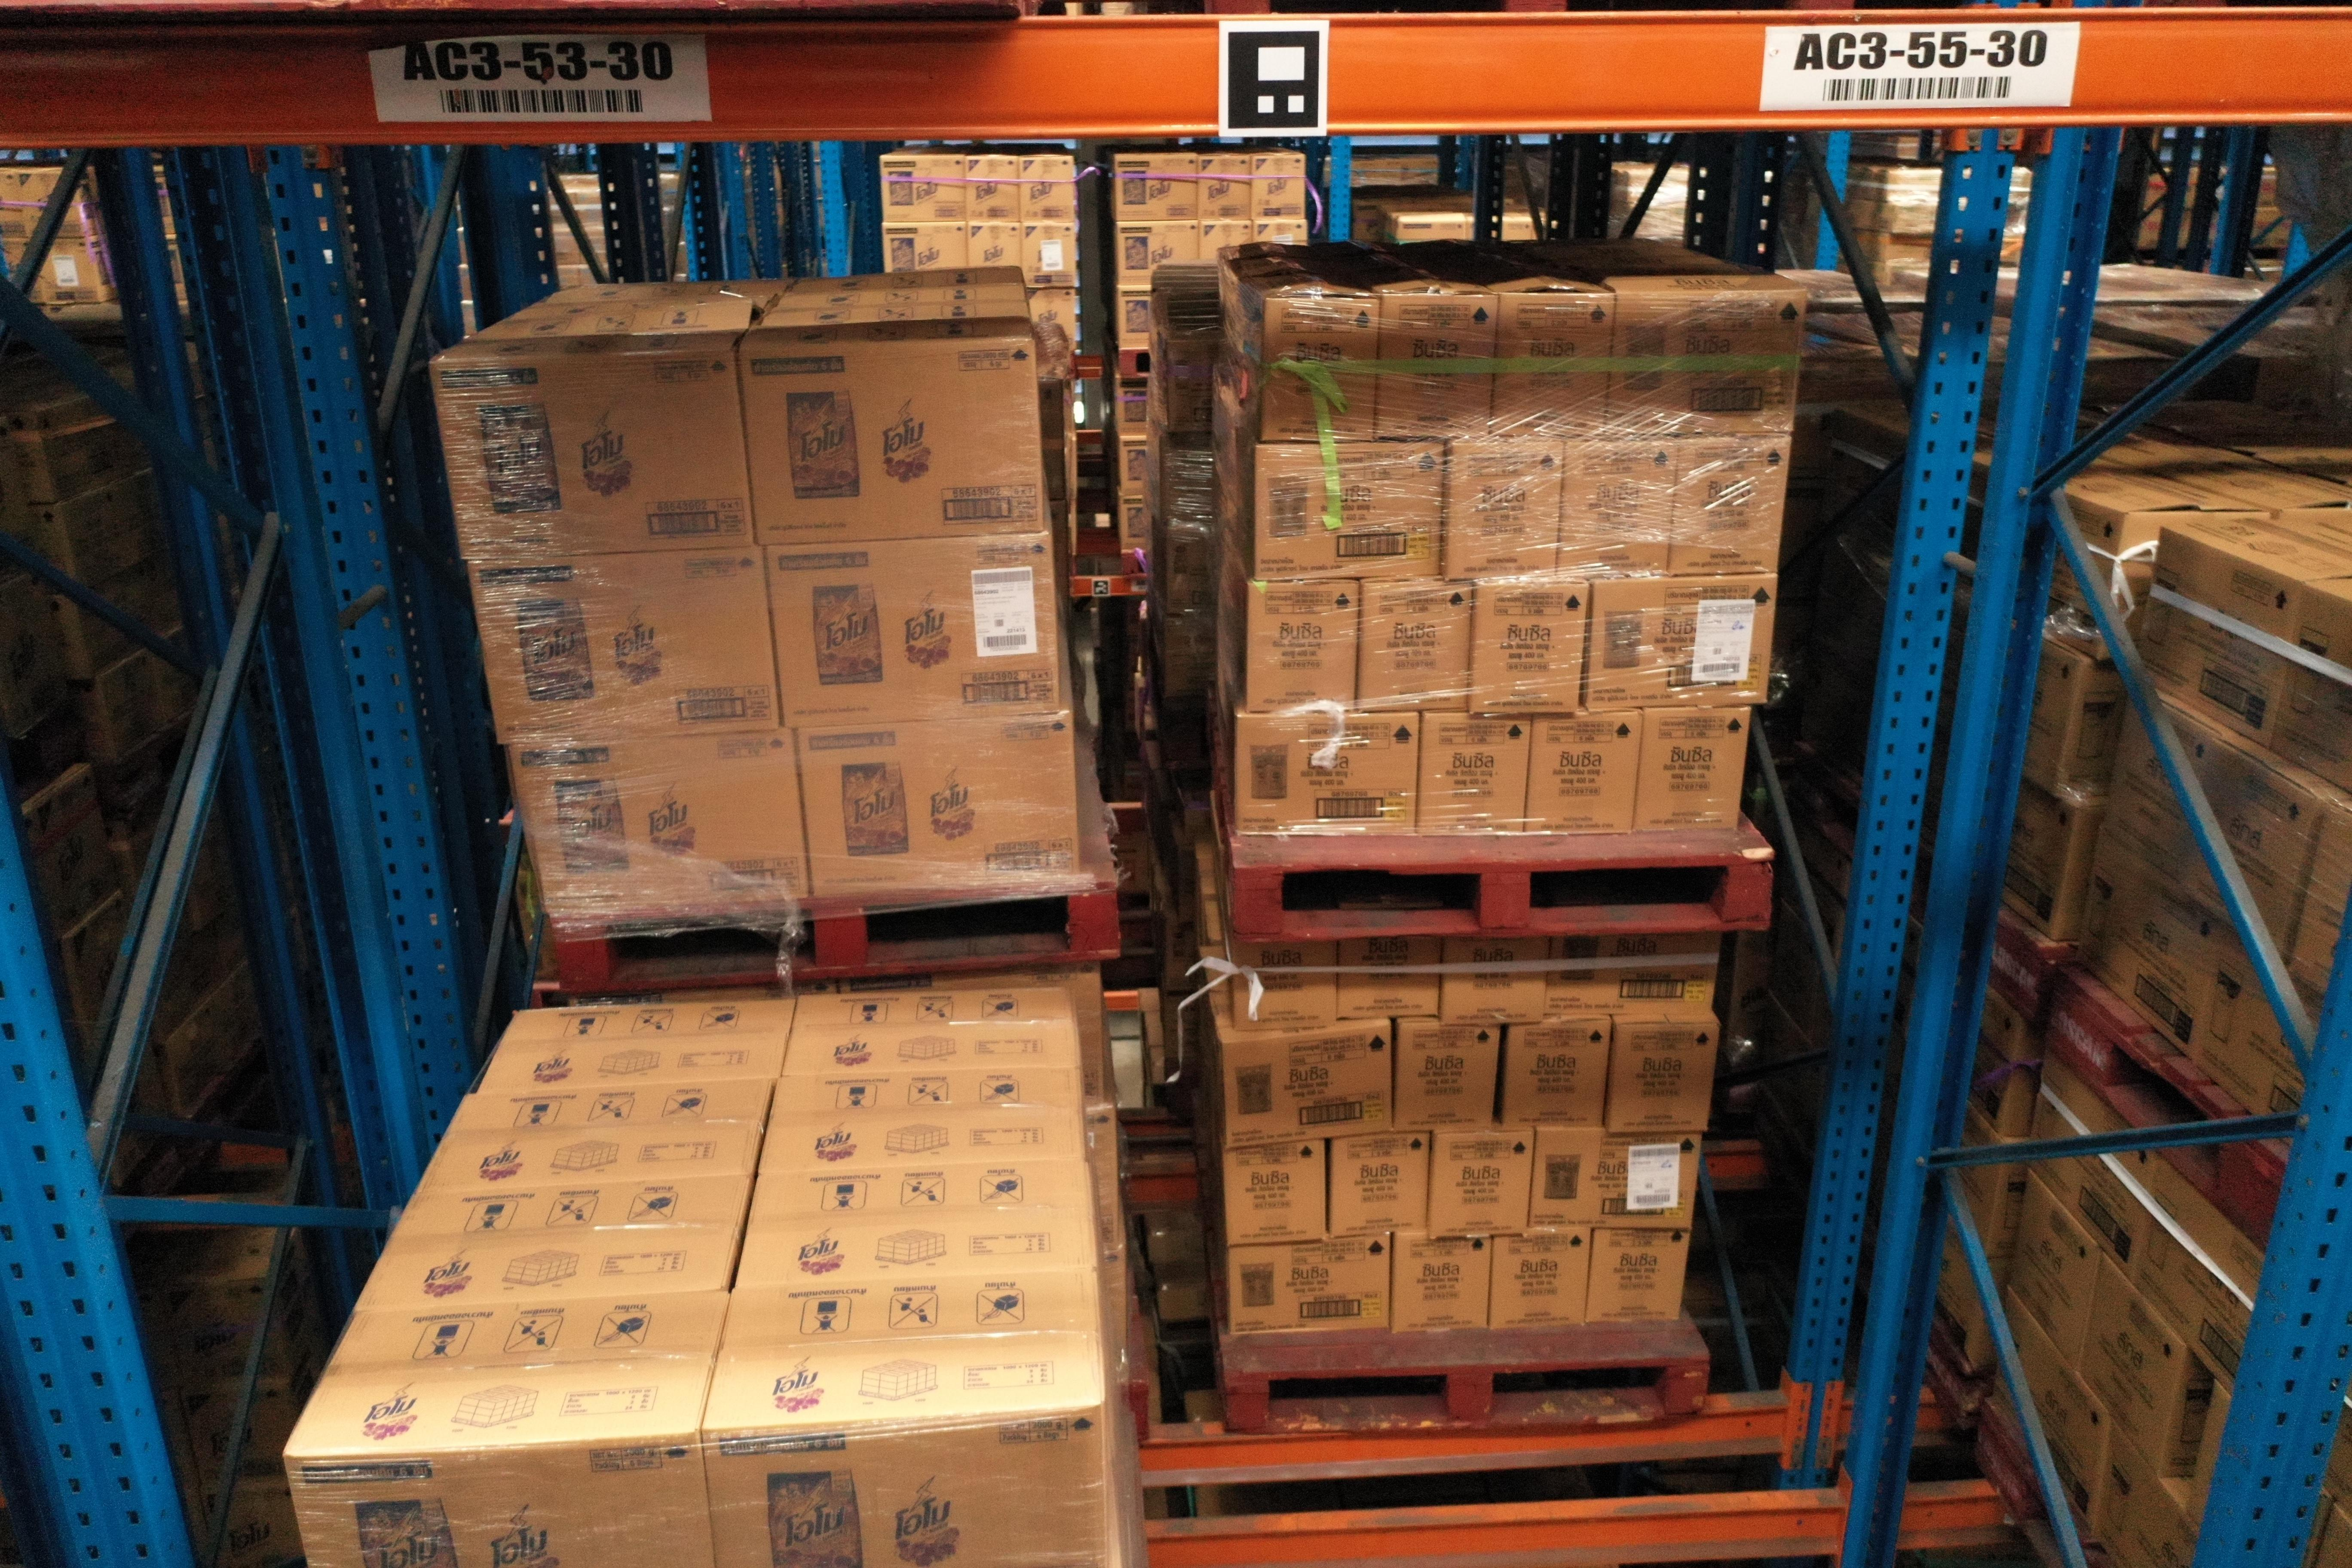-: (700, 1405, 1113, 1568), (282, 1430, 719, 1568)
box: (432, 348, 759, 565), (735, 336, 1045, 548), (464, 548, 782, 744), (763, 535, 1059, 731), (506, 726, 810, 913), (794, 710, 1078, 901), (1610, 292, 1808, 439), (1584, 574, 1778, 716), (1255, 439, 1444, 583), (1235, 709, 1421, 845), (1221, 1020, 1393, 1150), (1557, 432, 1678, 586), (1489, 292, 1613, 441), (1442, 434, 1564, 584), (1668, 434, 1792, 581), (1377, 292, 1500, 441), (1260, 294, 1379, 446), (1528, 1130, 1703, 1234), (1468, 577, 1592, 716), (1228, 1235, 1393, 1339), (1246, 581, 1363, 717), (1547, 931, 1722, 1020), (1356, 581, 1473, 714), (1416, 709, 1533, 840), (1526, 709, 1641, 838), (1636, 705, 1750, 833), (1500, 1020, 1610, 1134), (1608, 1024, 1718, 1134), (1395, 1020, 1500, 1132), (1328, 1130, 1430, 1242), (1430, 1130, 1535, 1237), (1223, 1141, 1326, 1246), (1438, 933, 1549, 1027), (1228, 941, 1339, 1034), (1584, 1228, 1689, 1323), (1487, 1232, 1591, 1326), (1393, 1234, 1491, 1332), (1339, 933, 1440, 1020)
